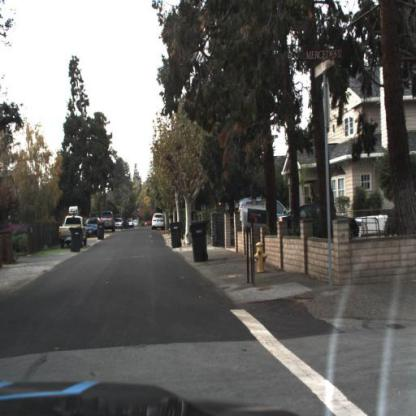car: (264, 195, 366, 248), (230, 188, 292, 232), (60, 215, 87, 249), (84, 213, 105, 244), (151, 208, 169, 233), (101, 211, 117, 234), (113, 215, 125, 232), (126, 218, 135, 229), (133, 219, 140, 230)
